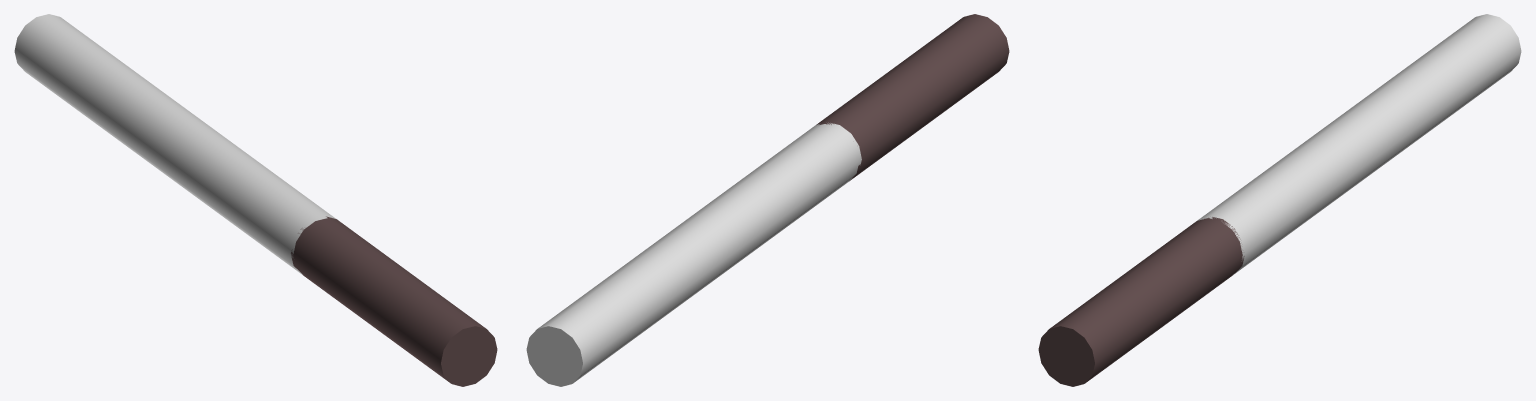
File: tabako.fbx
The picture shows the model from 3 angles, left to right: view 1: azimuth 30°, elevation 25°; view 2: azimuth 150°, elevation 25°; view 3: azimuth 330°, elevation 25°; orthographic projection.
Visible parts, largest first — view 1: pCylinder4; view 2: pCylinder4; view 3: pCylinder4.
Part boxes in pixels (x1,y1,x2,y2): pCylinder4: (14,14,497,386); pCylinder4: (526,14,1009,386); pCylinder4: (1038,14,1521,386).
Size of the model in its own units: 2 by 1.95 by 26.06.
